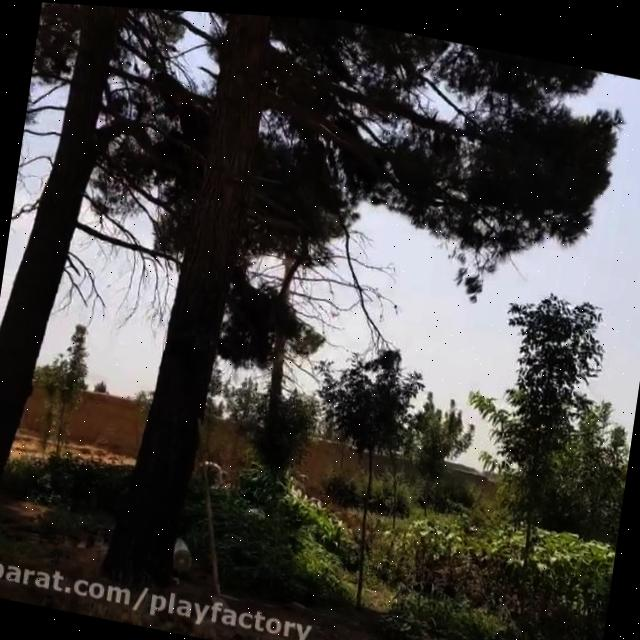drone: (328, 302, 340, 314)
